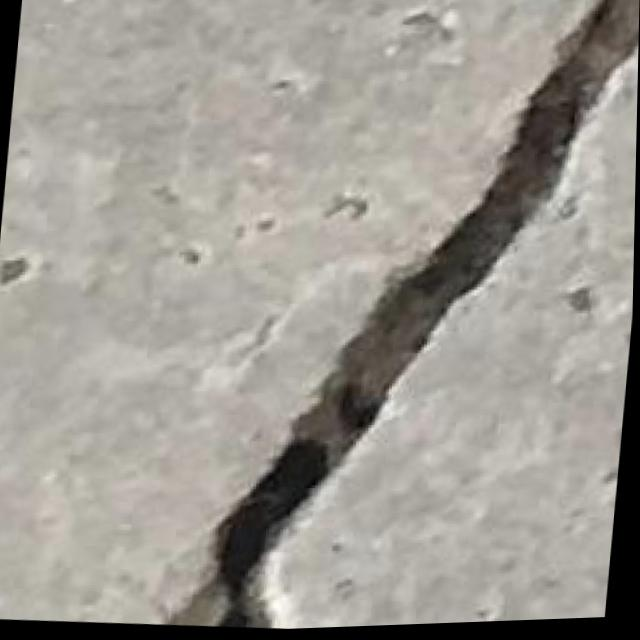Crack: (219, 0, 640, 629)
